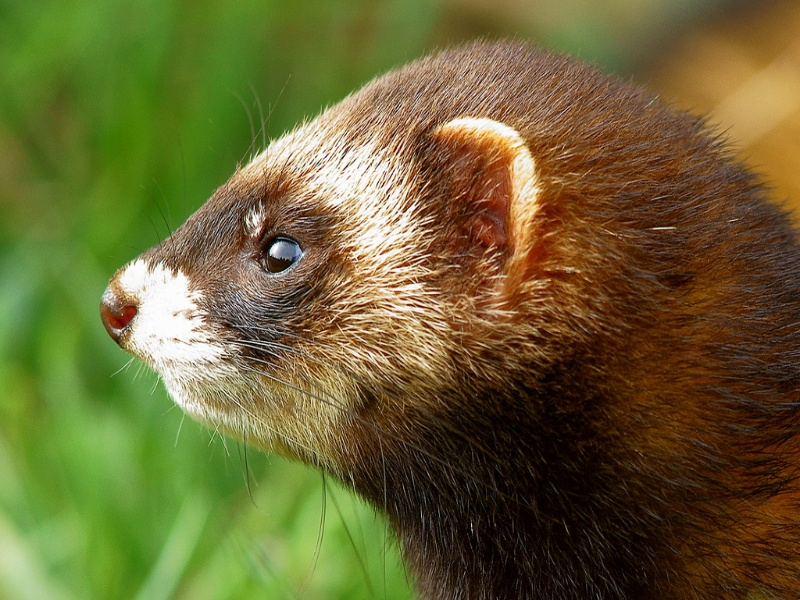minkish: (83, 31, 795, 596)
